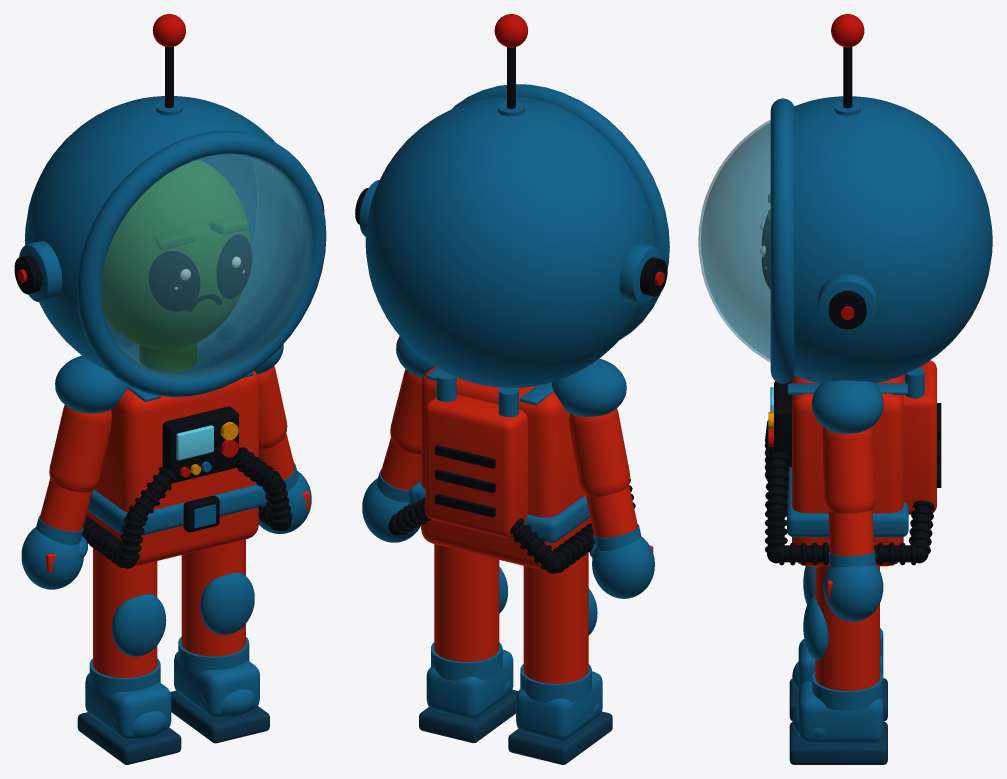
Rendered from spaceman.obj.
3 views of the same model, side by side, from view 1: azimuth 30°, elevation 25°; view 2: azimuth 150°, elevation 25°; view 3: azimuth 270°, elevation 25° (orthographic).
Parts seen in each view (by area): view 1: Helmet_Visor, Helmet_Shell, Helmet_Collar, Alien_Head, Suit_Torso, Leg_L, Leg_R, Breathing_Hose_L, Arm_Upper_L, Chest_Console, Boot_Body_L, Shoulder_Pad_L (+30 smaller); view 2: Helmet_Shell, Backpack, Suit_Torso, Leg_L, Leg_R, Helmet_Collar, Boot_Body_R, Arm_Upper_L, Boot_Body_L, Shoulder_Pad_L, Glove_L, Boot_Sole_L (+22 smaller); view 3: Helmet_Shell, Helmet_Visor, Suit_Torso, Helmet_Collar, Breathing_Hose_R, Leg_R, Backpack, Boot_Body_R, Arm_Upper_R, Shoulder_Pad_R, Glove_R, Boot_Sole_R (+14 smaller).
Part boxes in pixels (box(x1,y1,x2,y2)): Helmet_Visor: box(100, 153, 312, 381); Helmet_Shell: box(24, 96, 306, 371); Helmet_Collar: box(77, 130, 326, 397); Alien_Head: box(101, 159, 249, 349); Suit_Torso: box(86, 370, 258, 565); Leg_L: box(93, 547, 157, 677); Leg_R: box(181, 539, 245, 656); Breathing_Hose_L: box(82, 466, 177, 568); Arm_Upper_L: box(50, 409, 111, 481); Chest_Console: box(162, 406, 238, 482); Boot_Body_L: box(85, 673, 171, 739); Shoulder_Pad_L: box(55, 355, 127, 413); Helmet_Shell: box(365, 96, 655, 387); Backpack: box(425, 394, 527, 537); Suit_Torso: box(421, 366, 591, 570); Leg_L: box(523, 552, 588, 683); Leg_R: box(434, 544, 499, 661); Helmet_Collar: box(452, 84, 669, 339); Boot_Body_R: box(426, 649, 513, 719); Arm_Upper_L: box(569, 413, 629, 486); Boot_Body_L: box(516, 671, 602, 740); Shoulder_Pad_L: box(551, 358, 626, 416); Glove_L: box(592, 536, 654, 598); Boot_Sole_L: box(508, 711, 612, 764); Helmet_Shell: box(794, 96, 992, 383); Helmet_Visor: box(698, 120, 770, 362); Suit_Torso: box(792, 375, 903, 566); Helmet_Collar: box(770, 98, 794, 383); Breathing_Hose_R: box(764, 452, 934, 565); Leg_R: box(815, 562, 879, 690); Backpack: box(903, 360, 936, 514); Boot_Body_R: box(798, 680, 883, 743); Arm_Upper_R: box(822, 434, 875, 502); Shoulder_Pad_R: box(811, 380, 883, 433); Glove_R: box(823, 564, 883, 621); Boot_Sole_R: box(789, 721, 887, 764).
Size of the model in its own units: 1.54 by 3.54 by 1.32.
